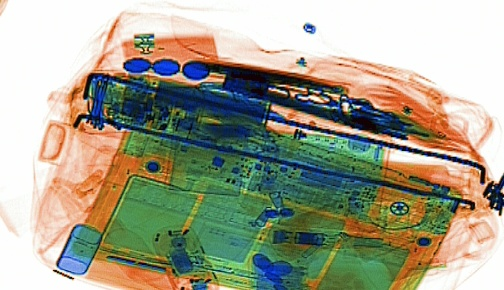powerbank: (134, 73, 274, 129)
